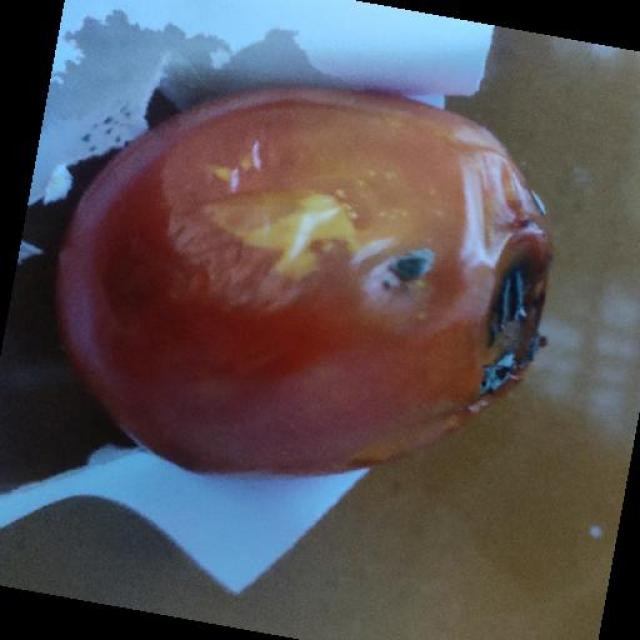Stale_tomato: (62, 116, 568, 449)
